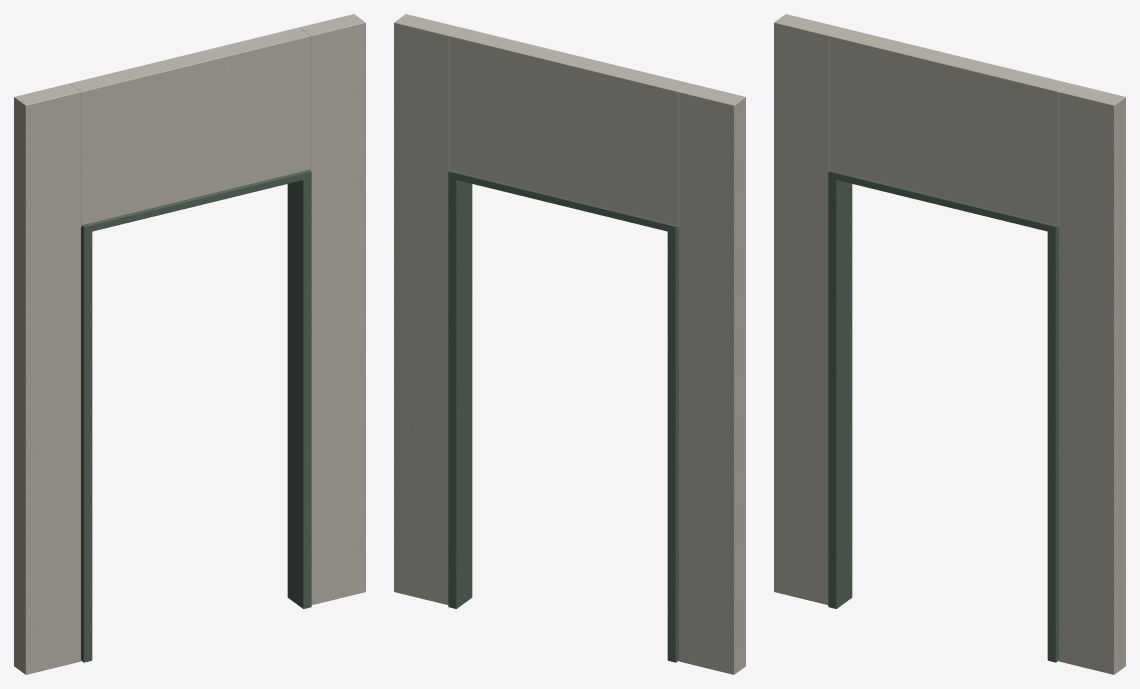
Rendered from stockroom_doorway_2m.glb.
The picture shows the model from 3 angles, left to right: view 1: azimuth 30°, elevation 25°; view 2: azimuth 150°, elevation 25°; view 3: azimuth 330°, elevation 25°; orthographic projection.
Visible parts, largest first — view 1: stockroom_doorway_2m; view 2: stockroom_doorway_2m; view 3: stockroom_doorway_2m.
Boxes of the visible parts, x1,y1,x2,y2 form: stockroom_doorway_2m: (14, 14, 365, 674); stockroom_doorway_2m: (394, 14, 745, 674); stockroom_doorway_2m: (774, 14, 1125, 674).
Size of the model in its own units: 2 by 3.2 by 0.16.
2 materials, 2 textured.
